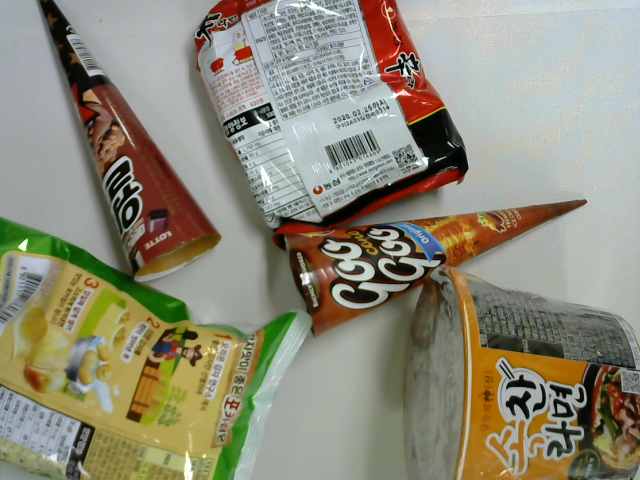GooGoo_Cone_CVS: (280, 189, 608, 340)
Hejangchan: (392, 261, 640, 480)
Pocachip_Onion: (1, 211, 321, 477)
Sinramen: (187, 1, 470, 255)
World_Cone_Choco: (31, 1, 225, 288)
